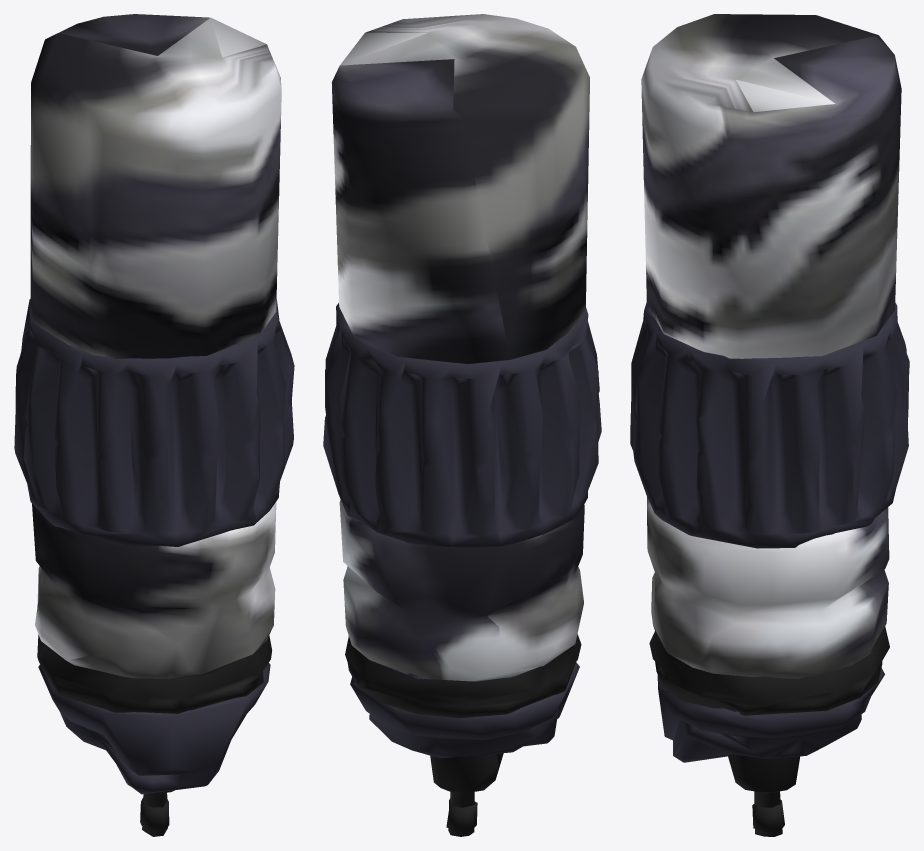
Rendered from WorldItem_AZ_GymBottle.fbx.
3 renders of one model, left to right at view 1: azimuth 30°, elevation 25°; view 2: azimuth 150°, elevation 25°; view 3: azimuth 270°, elevation 25°, orthographic.
Parts seen in each view (by area): view 1: GymBottle; view 2: GymBottle; view 3: GymBottle.
Part boxes in pixels (box(x1,y1,x2,y2)): GymBottle: box(14, 14, 294, 836); GymBottle: box(323, 14, 601, 836); GymBottle: box(630, 14, 909, 836).
Bounding box in the file's own units: 0.0723 × 0.2229 × 0.0725.
